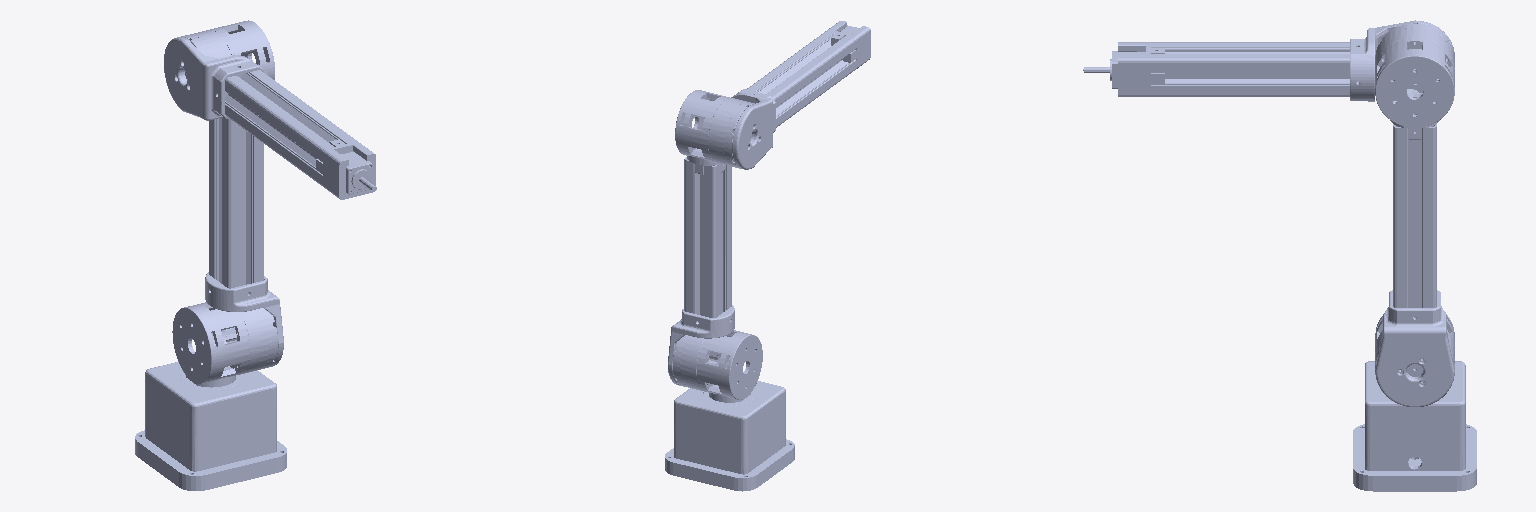
The robot description file, URDF, robot "ARM_UN":
<?xml version="1.0" encoding="utf-8"?>
<!-- This URDF was automatically created by SolidWorks to URDF Exporter! Originally created by [author] ([email redacted]) 
     Commit Version: 1.6.0-4-g7f85cfe  Build Version: 1.6.7995.38578
     For more information, please see http://wiki.ros.org/sw_urdf_exporter -->
<robot
  name="ARM_UN">
  <link
    name="base_link">
    <inertial>
      <origin
        xyz="-0.000193959779735173 1.26844522706056E-15 -0.0061834838098993"
        rpy="0 0 0" />
      <mass
        value="0.144633575732992" />
      <inertia
        ixx="0.000132553075400075"
        ixy="1.51847330198237E-20"
        ixz="-1.09435411406574E-07"
        iyy="0.000131787795378498"
        iyz="2.21622369370958E-20"
        izz="0.00018833513842507" />
    </inertial>
    <visual>
      <origin
        xyz="0 0 0"
        rpy="0 0 0" />
      <geometry>
        <mesh
          filename="package://ARM_UN/meshes/base_link.STL" />
      </geometry>
      <material
        name="">
        <color
          rgba="0.792156862745098 0.819607843137255 0.933333333333333 1" />
      </material>
    </visual>
    <collision>
      <origin
        xyz="0 0 0"
        rpy="0 0 0" />
      <geometry>
        <mesh
          filename="package://ARM_UN/meshes/base_link.STL" />
      </geometry>
    </collision>
  </link>
  <link
    name="link1">
    <inertial>
      <origin
        xyz="0.0131845085240893 -3.27709857055954E-07 0.00499374991058124"
        rpy="0 0 0" />
      <mass
        value="0.0641795433921742" />
      <inertia
        ixx="3.57552579206163E-05"
        ixy="5.44632634004127E-11"
        ixz="-7.78953701156361E-07"
        iyy="2.43138133345681E-05"
        iyz="1.11829644787619E-11"
        izz="1.84127152791205E-05" />
    </inertial>
    <visual>
      <origin
        xyz="0 0 0"
        rpy="0 0 0" />
      <geometry>
        <mesh
          filename="package://ARM_UN/meshes/link1.STL" />
      </geometry>
      <material
        name="">
        <color
          rgba="0.792156862745098 0.819607843137255 0.933333333333333 1" />
      </material>
    </visual>
    <collision>
      <origin
        xyz="0 0 0"
        rpy="0 0 0" />
      <geometry>
        <mesh
          filename="package://ARM_UN/meshes/link1.STL" />
      </geometry>
    </collision>
  </link>
  <joint
    name="joint1"
    type="revolute">
    <origin
      xyz="0 0 0.0596"
      rpy="-3.1416 0 0" />
    <parent
      link="base_link" />
    <child
      link="link1" />
    <axis
      xyz="0 0 -1" />
    <limit
      lower="-1.5708"
      upper="1.5708"
      effort="0"
      velocity="0" />
  </joint>
  <link
    name="link2">
    <inertial>
      <origin
        xyz="0.132743929558428 -1.48488428705172E-07 0.00389268768643134"
        rpy="0 0 0" />
      <mass
        value="0.130627170932376" />
      <inertia
        ixx="3.54949904545134E-05"
        ixy="-1.33606183720603E-10"
        ixz="-4.11463070103512E-06"
        iyy="0.000124903135713284"
        iyz="5.01005463977991E-11"
        izz="0.000135802670187777" />
    </inertial>
    <visual>
      <origin
        xyz="0 0 0"
        rpy="0 0 0" />
      <geometry>
        <mesh
          filename="package://ARM_UN/meshes/link2.STL" />
      </geometry>
      <material
        name="">
        <color
          rgba="0.792156862745098 0.819607843137255 0.933333333333333 1" />
      </material>
    </visual>
    <collision>
      <origin
        xyz="0 0 0"
        rpy="0 0 0" />
      <geometry>
        <mesh
          filename="package://ARM_UN/meshes/link2.STL" />
      </geometry>
    </collision>
  </link>
  <joint
    name="joint2"
    type="revolute">
    <origin
      xyz="0.02065 0 0"
      rpy="3.1416 1.5708 0" />
    <parent
      link="link1" />
    <child
      link="link2" />
    <axis
      xyz="0 0 1" />
    <limit
      lower="-1.5708"
      upper="1.5708"
      effort="0"
      velocity="0" />
  </joint>
  <link
    name="link3">
    <inertial>
      <origin
        xyz="0.103282270254708 -0.000200370080136847 0.00296707275748816"
        rpy="0 0 0" />
      <mass
        value="0.0972495534277875" />
      <inertia
        ixx="2.14639457040368E-05"
        ixy="1.07686725859436E-07"
        ixz="4.56452510621127E-06"
        iyy="0.000107916212132843"
        iyz="-1.79838781868967E-11"
        izz="0.000107335643249849" />
    </inertial>
    <visual>
      <origin
        xyz="0 0 0"
        rpy="0 0 0" />
      <geometry>
        <mesh
          filename="package://ARM_UN/meshes/link3.STL" />
      </geometry>
      <material
        name="">
        <color
          rgba="0.792156862745098 0.819607843137255 0.933333333333333 1" />
      </material>
    </visual>
    <collision>
      <origin
        xyz="0 0 0"
        rpy="0 0 0" />
      <geometry>
        <mesh
          filename="package://ARM_UN/meshes/link3.STL" />
      </geometry>
    </collision>
  </link>
  <joint
    name="joint3"
    type="revolute">
    <origin
      xyz="0.2109 0 0.02065"
      rpy="0 0 -1.5708" />
    <parent
      link="link2" />
    <child
      link="link3" />
    <axis
      xyz="0 0 1" />
    <limit
      lower="-1.5708"
      upper="1.5708"
      effort="0"
      velocity="0" />
  </joint>
  <link
    name="link4">
    <inertial>
      <origin
        xyz="2.77555756156289E-17 0 0"
        rpy="0 0 0" />
      <mass
        value="5.23598775598299E-07" />
      <inertia
        ixx="5.23598775598299E-14"
        ixy="0"
        ixz="7.00649232162409E-46"
        iyy="5.23598775598299E-14"
        iyz="-4.89097216330415E-46"
        izz="5.23598775598299E-14" />
    </inertial>
    <visual>
      <origin
        xyz="0 0 0"
        rpy="0 0 0" />
      <geometry>
        <mesh
          filename="package://ARM_UN/meshes/link4.STL" />
      </geometry>
      <material
        name="">
        <color
          rgba="0.792156862745098 0.819607843137255 0.933333333333333 1" />
      </material>
    </visual>
    <collision>
      <origin
        xyz="0 0 0"
        rpy="0 0 0" />
      <geometry>
        <mesh
          filename="package://ARM_UN/meshes/link4.STL" />
      </geometry>
    </collision>
  </link>
  <joint
    name="joint4"
    type="revolute">
    <origin
      xyz="0.2298 -0.0001 0"
      rpy="-1.5708 0 0" />
    <parent
      link="link3" />
    <child
      link="link4" />
    <axis
      xyz="0 0 -1" />
    <limit
      lower="-1.5708"
      upper="1.5708"
      effort="0"
      velocity="0" />
  </joint>
  <link
    name="link5">
    <inertial>
      <origin
        xyz="0 0 2.77555756156289E-17"
        rpy="0 0 0" />
      <mass
        value="5.23598775598299E-07" />
      <inertia
        ixx="5.23598775598299E-14"
        ixy="4.89097216330415E-46"
        ixz="-7.00649232162409E-46"
        iyy="5.23598775598299E-14"
        iyz="0"
        izz="5.23598775598299E-14" />
    </inertial>
    <visual>
      <origin
        xyz="0 0 0"
        rpy="0 0 0" />
      <geometry>
        <mesh
          filename="package://ARM_UN/meshes/link5.STL" />
      </geometry>
      <material
        name="">
        <color
          rgba="0.792156862745098 0.819607843137255 0.933333333333333 1" />
      </material>
    </visual>
    <collision>
      <origin
        xyz="0 0 0"
        rpy="0 0 0" />
      <geometry>
        <mesh
          filename="package://ARM_UN/meshes/link5.STL" />
      </geometry>
    </collision>
  </link>
  <joint
    name="joint5"
    type="revolute">
    <origin
      xyz="0 0 0"
      rpy="0 1.5708 0" />
    <parent
      link="link4" />
    <child
      link="link5" />
    <axis
      xyz="0 0 -1" />
    <limit
      lower="-1.5708"
      upper="1.5708"
      effort="0"
      velocity="0" />
  </joint>
  <link
    name="link6">
    <inertial>
      <origin
        xyz="0 2.77555756156289E-17 0"
        rpy="0 0 0" />
      <mass
        value="5.23598775598299E-07" />
      <inertia
        ixx="5.23598775598299E-14"
        ixy="-7.00649232162409E-46"
        ixz="-4.89097216330415E-46"
        iyy="5.23598775598299E-14"
        iyz="0"
        izz="5.23598775598299E-14" />
    </inertial>
    <visual>
      <origin
        xyz="0 0 0"
        rpy="0 0 0" />
      <geometry>
        <mesh
          filename="package://ARM_UN/meshes/link6.STL" />
      </geometry>
      <material
        name="">
        <color
          rgba="0.792156862745098 0.819607843137255 0.933333333333333 1" />
      </material>
    </visual>
    <collision>
      <origin
        xyz="0 0 0"
        rpy="0 0 0" />
      <geometry>
        <mesh
          filename="package://ARM_UN/meshes/link6.STL" />
      </geometry>
    </collision>
  </link>
  <joint
    name="joint6"
    type="revolute">
    <origin
      xyz="0 0 0"
      rpy="1.5708 0 0" />
    <parent
      link="link5" />
    <child
      link="link6" />
    <axis
      xyz="0 0 1" />
    <limit
      lower="-1.5708"
      upper="1.5708"
      effort="0"
      velocity="0" />
  </joint>
</robot>

--- What the picture shows (computed from the rendered views, not written in the file) ---
3 views of the same robot in one strip: view 1: azimuth 30°, elevation 25°; view 2: azimuth 150°, elevation 25°; view 3: azimuth 270°, elevation 25° (orthographic).
Model ARM_UN with 7 links and 6 joints (6 revolute), rooted at base_link, posed all joints at 0.
Links seen in each view (by area): view 1: base_link, link3, link2, link1; view 2: link2, base_link, link3, link1; view 3: link2, link3, base_link, link1.
Boxes of the visible links, x1=… form: base_link: x1=135, y1=362, x2=286, y2=490; link3: x1=164, y1=37, x2=376, y2=199; link2: x1=181, y1=20, x2=283, y2=366; link1: x1=172, y1=302, x2=277, y2=387; link2: x1=668, y1=90, x2=754, y2=385; base_link: x1=665, y1=381, x2=794, y2=491; link3: x1=731, y1=21, x2=870, y2=169; link1: x1=673, y1=330, x2=762, y2=402; link2: x1=1375, y1=23, x2=1454, y2=407; link3: x1=1084, y1=20, x2=1454, y2=101; base_link: x1=1353, y1=361, x2=1476, y2=491; link1: x1=1375, y1=314, x2=1454, y2=381.
Size in the robot's own frame: 0.0872 by 0.2733 by 0.3301 metres.
7 mesh visuals loaded from 7 distinct referenced files (7 binary STL).
